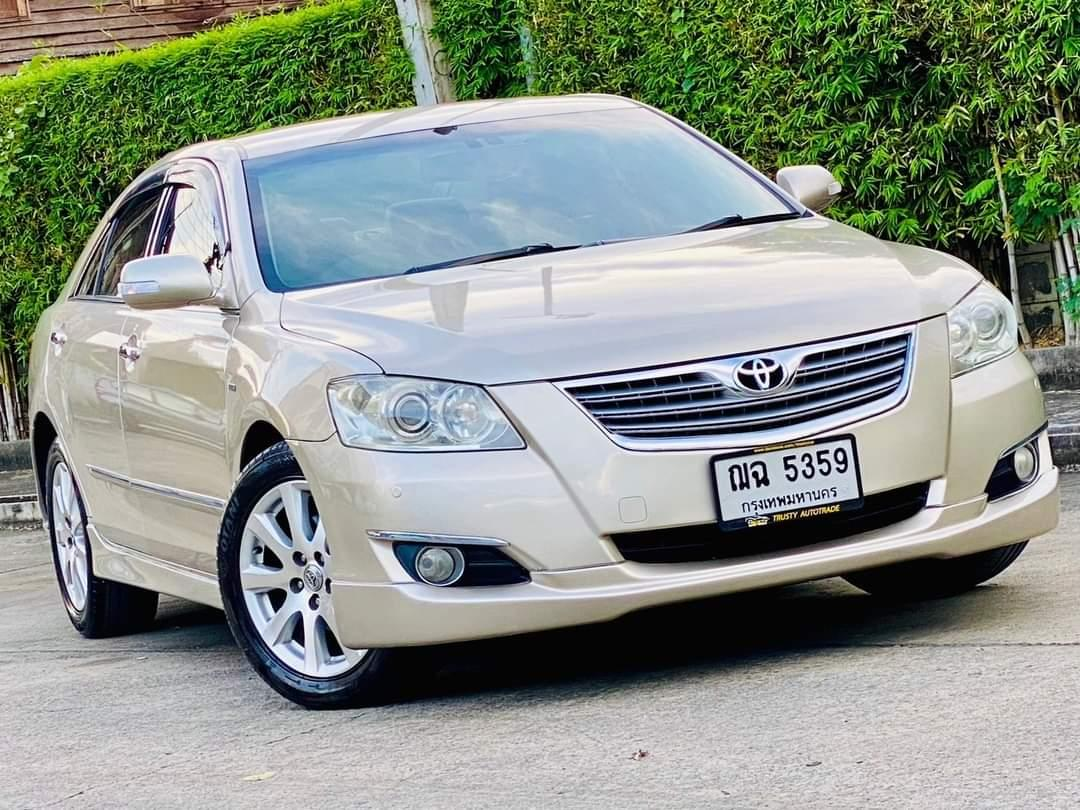license-plate: (710, 434, 864, 528)
